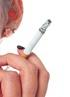smoke: (16, 18, 53, 66)
